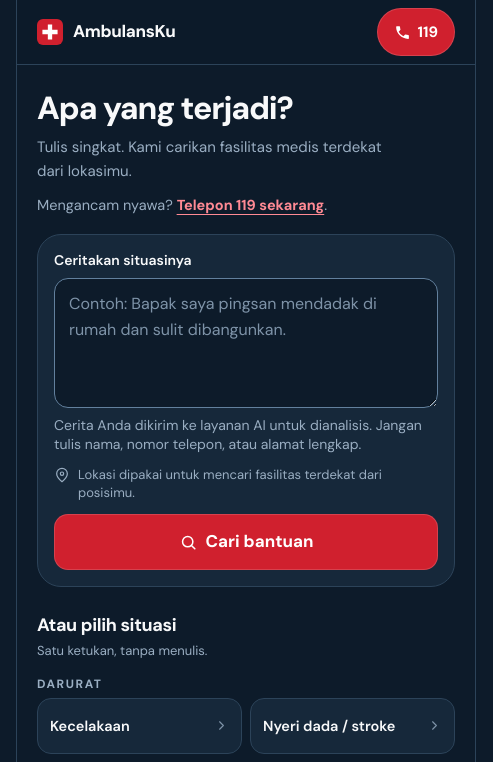
Test case: home location states › shows an inline denied message with retry and 119, without alert()
Replace the text in the text box with "pingsan" at (246,343), box top-left (54, 278), bottom-right (438, 408)
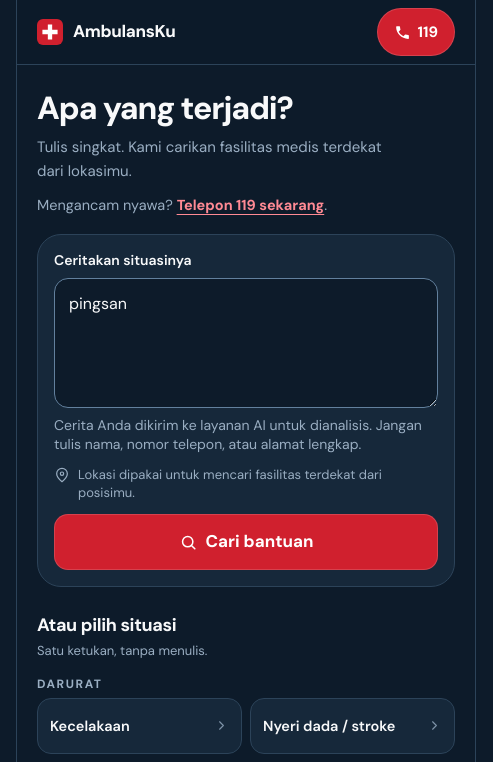
Click the button "Cari bantuan".
click(246, 542)  # box top-left (54, 514), bottom-right (438, 570)
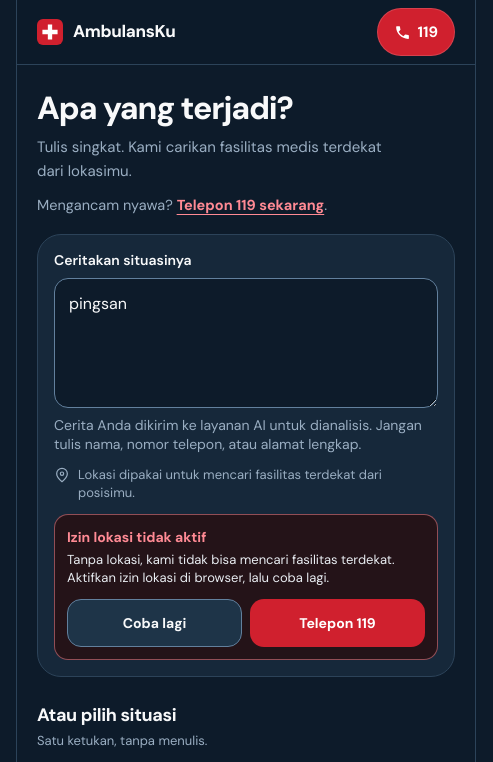
Now the text "Izin lokasi tidak aktif" is shown, box top-left (67, 528), bottom-right (206, 546)
Now the button "Coba lagi" is shown, box top-left (67, 599), bottom-right (242, 647)
